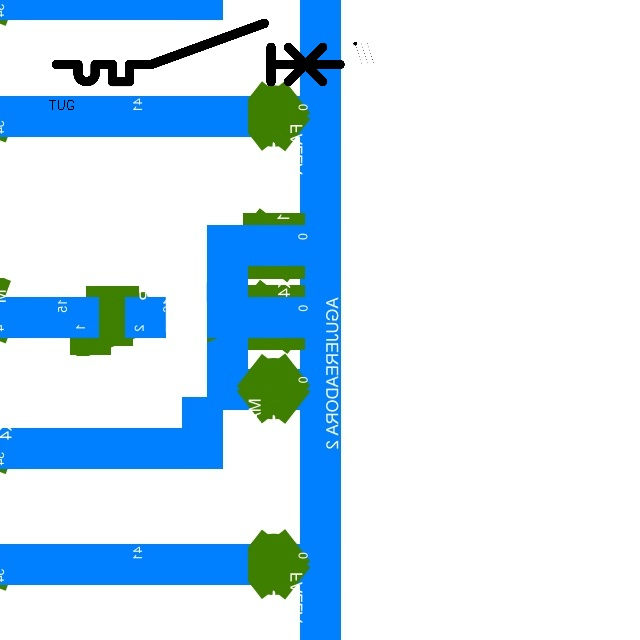interruptor_termomagnetico: (49, 16, 347, 89)
